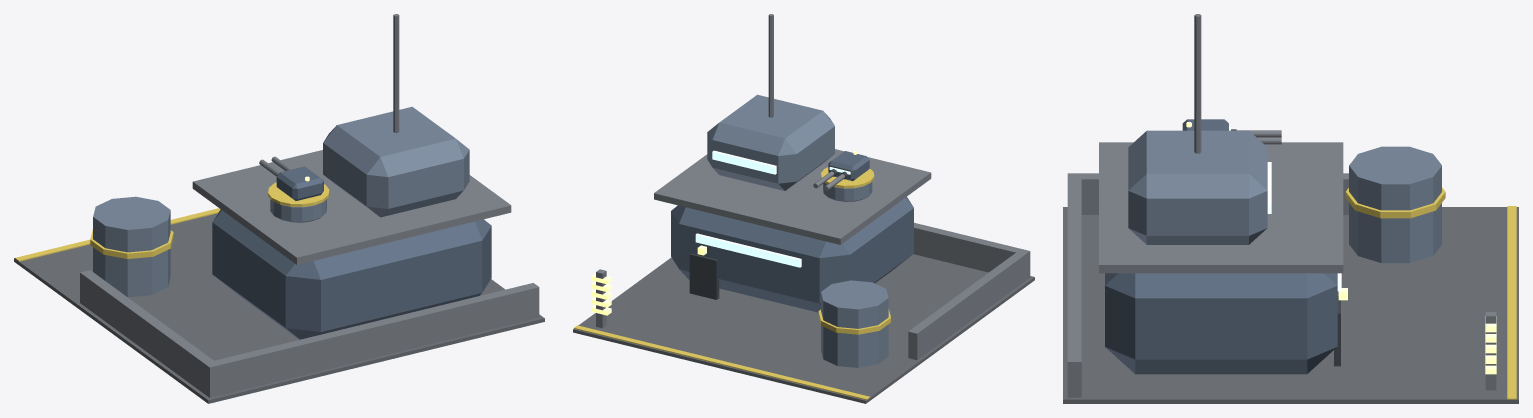
File: zone_low_5_t5.glb
3 views of the same model, side by side, from view 1: azimuth 30°, elevation 25°; view 2: azimuth 150°, elevation 25°; view 3: azimuth 270°, elevation 25° (orthographic). The views are drawn at different scales.
Parts seen in each view (by area): view 1: zone_low_5_t5, detail; view 2: zone_low_5_t5, detail; view 3: zone_low_5_t5, detail.
Boxes of the visible parts, box(x1,y1,x2,y2) form: zone_low_5_t5: box(14, 106, 544, 403); detail: box(15, 14, 399, 261); zone_low_5_t5: box(573, 94, 1034, 403); detail: box(574, 14, 890, 400); zone_low_5_t5: box(1063, 119, 1518, 403); detail: box(1186, 14, 1516, 399).
Bounding box in the file's own units: 19.6 × 15.97 × 19.6.
